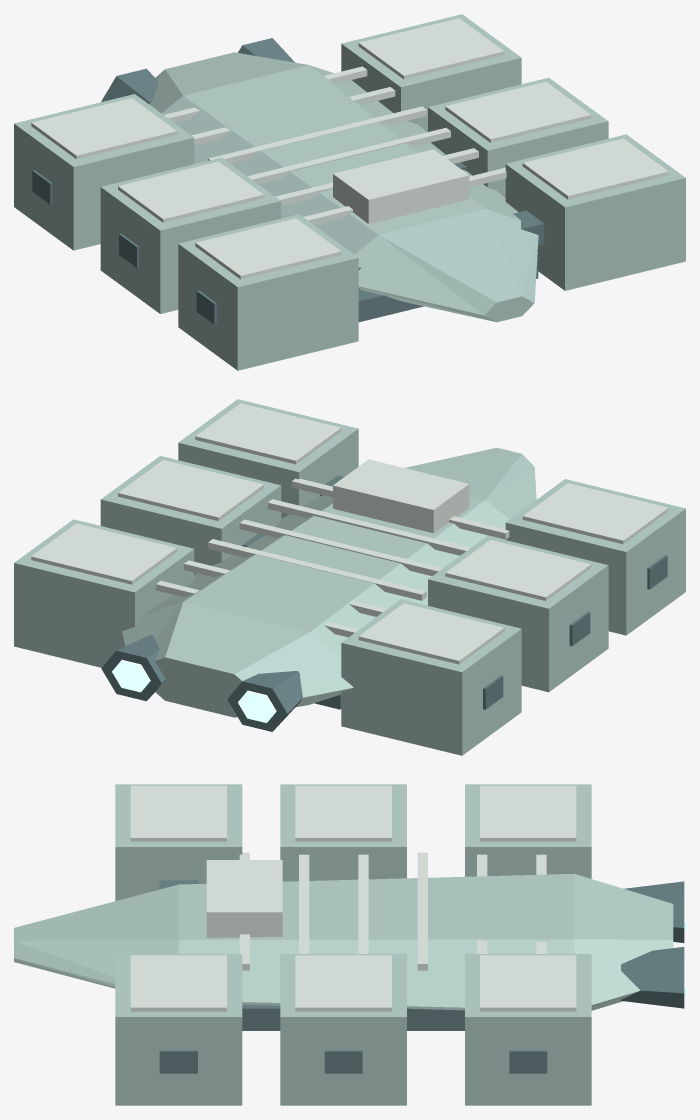
3 views of the same model, one above another, from view 1: azimuth 30°, elevation 25°; view 2: azimuth 150°, elevation 25°; view 3: azimuth 270°, elevation 25° (orthographic). The views are drawn at different scales.
Bounding box in the file's own units: 7.99 × 1.64 × 9.65.
